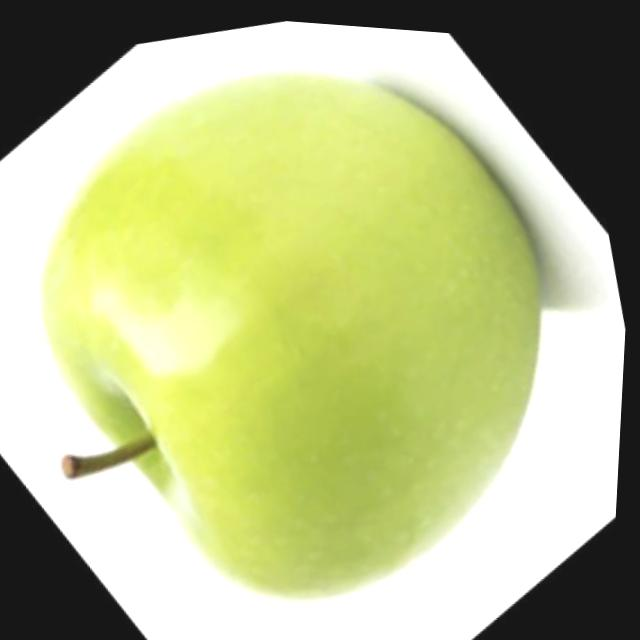Apple: (0, 0, 618, 640)
